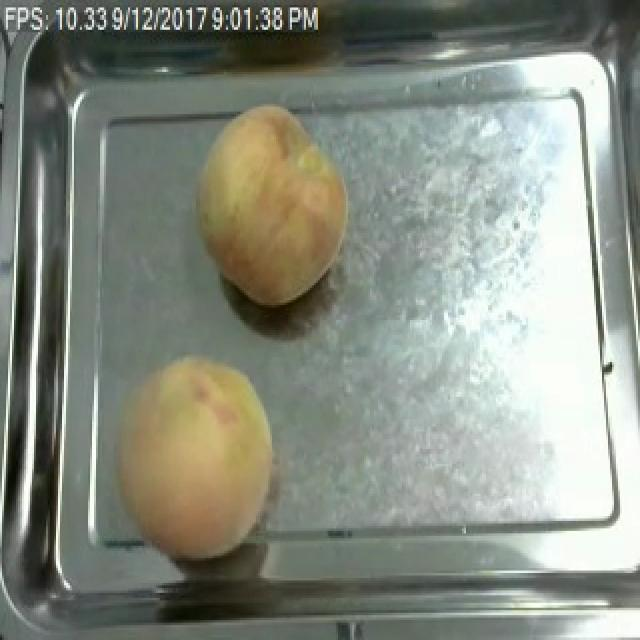Fruit: (98, 342, 284, 566), (188, 96, 356, 312)
